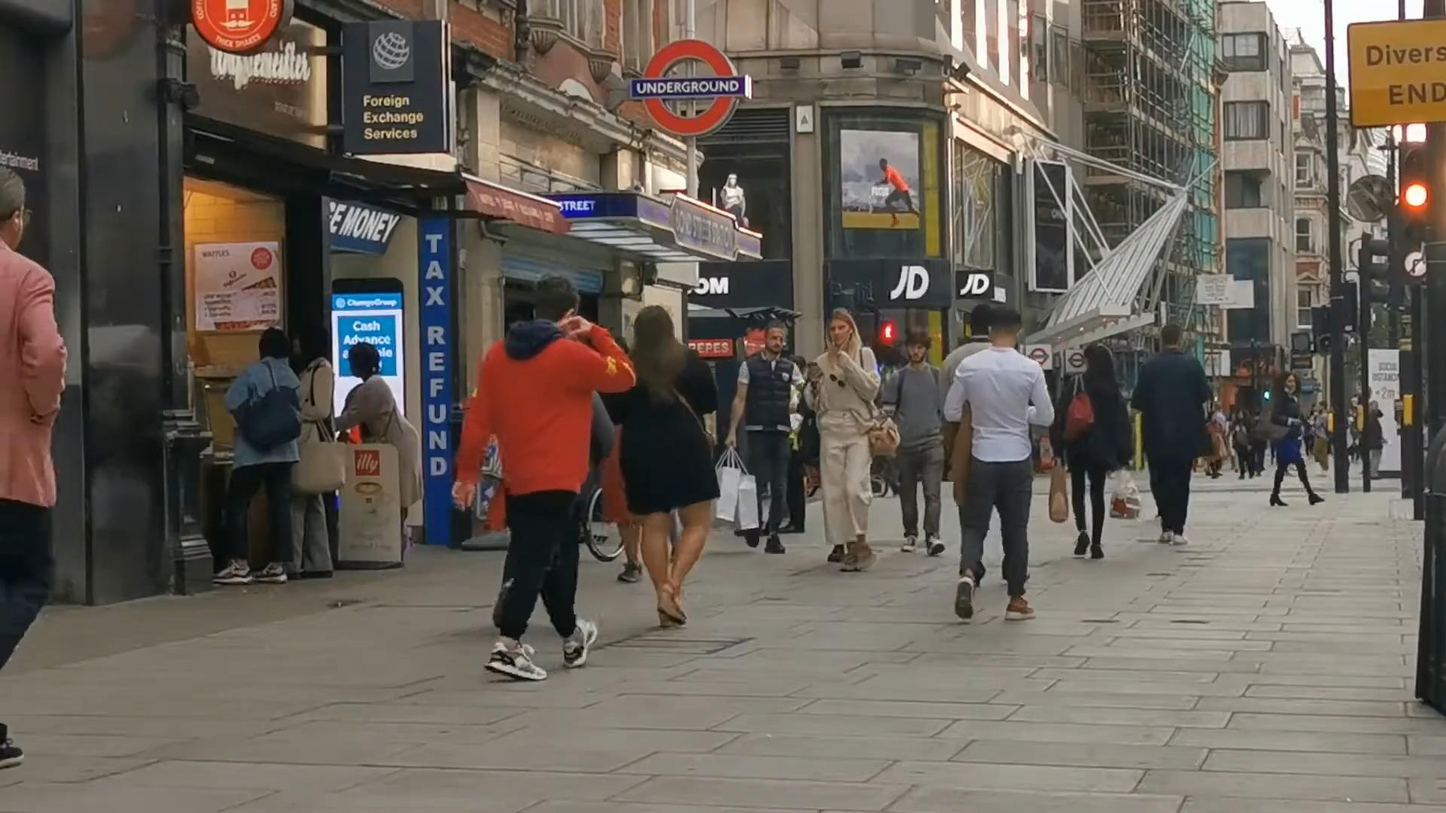no-helmet: (628, 305, 687, 363), (0, 166, 33, 251), (532, 274, 580, 327), (825, 308, 861, 350), (988, 308, 1024, 347), (1084, 342, 1115, 386), (906, 331, 931, 363), (764, 319, 786, 355), (1273, 372, 1301, 394), (1161, 324, 1181, 349)
